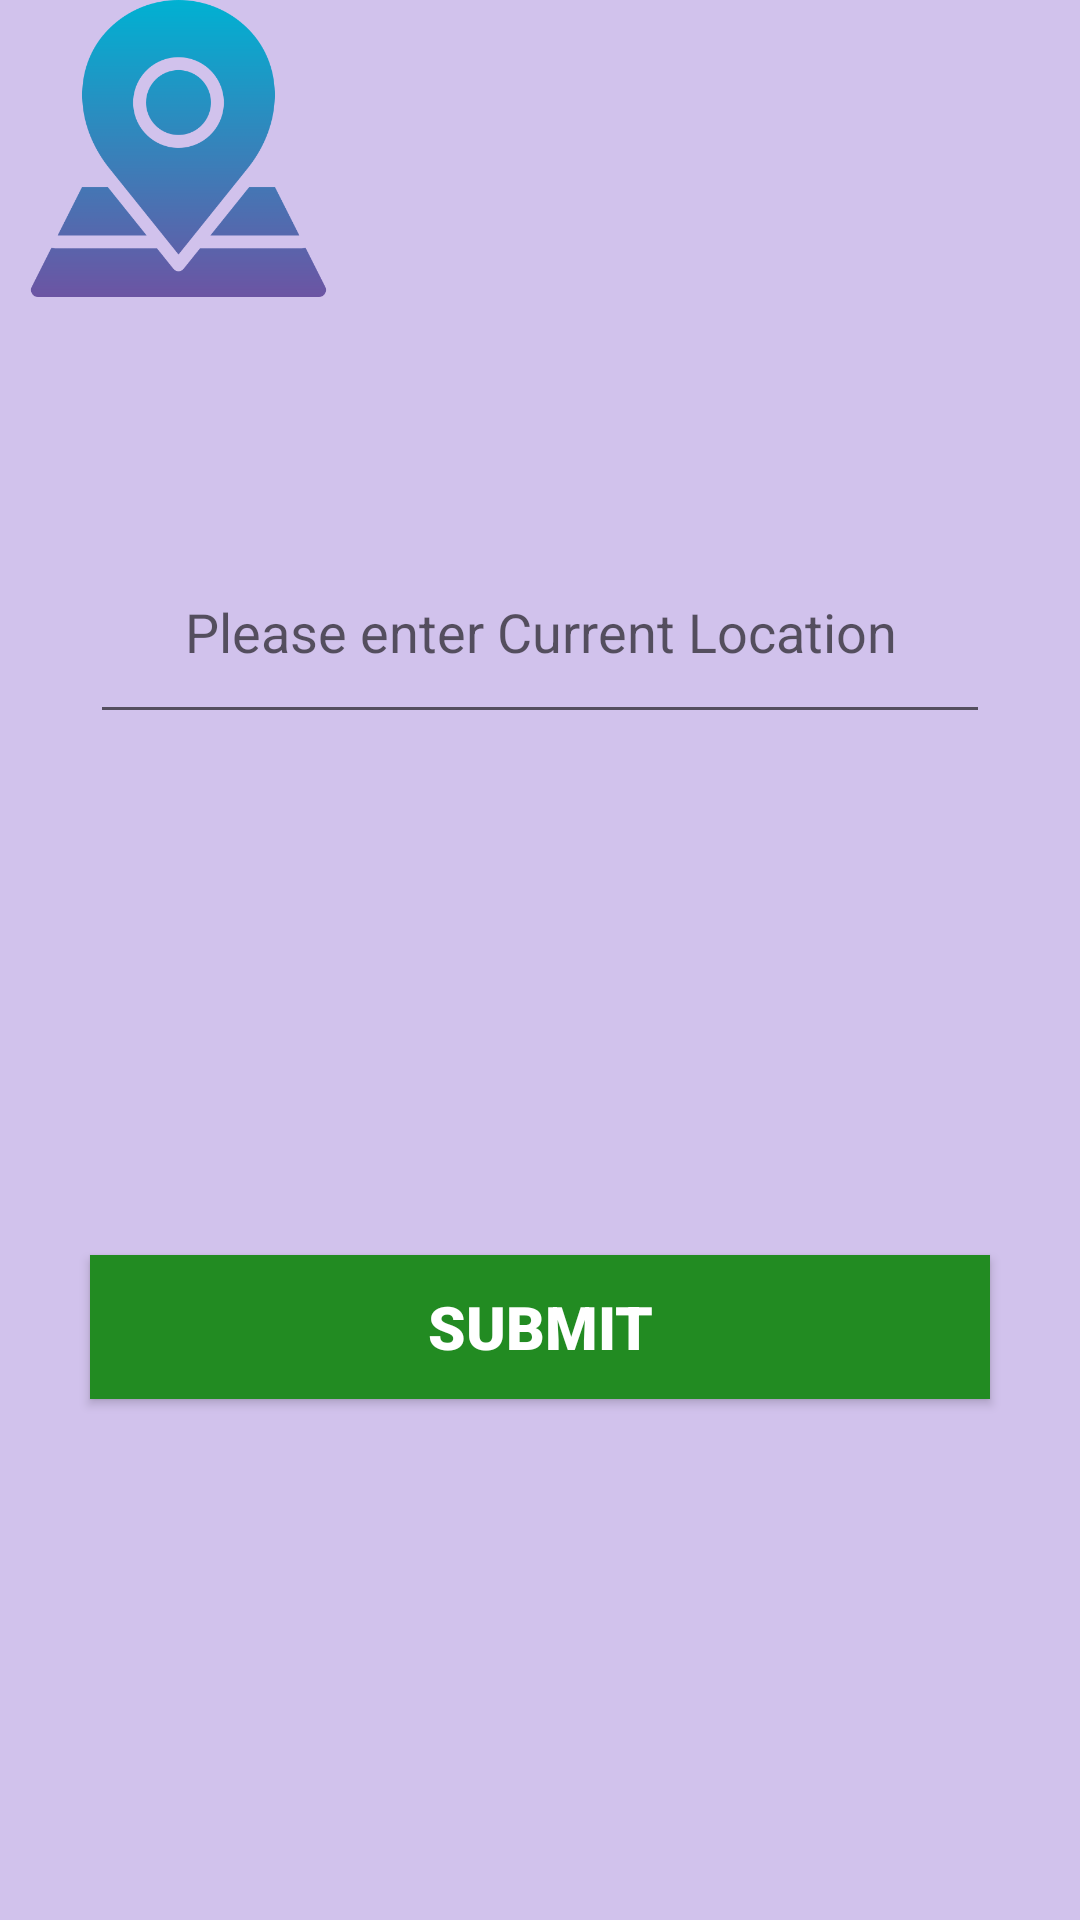

Where icons sit on this 1080*1920 app screen, as (x1, y1, x2, y2):
loc: (31, 0, 326, 297)
